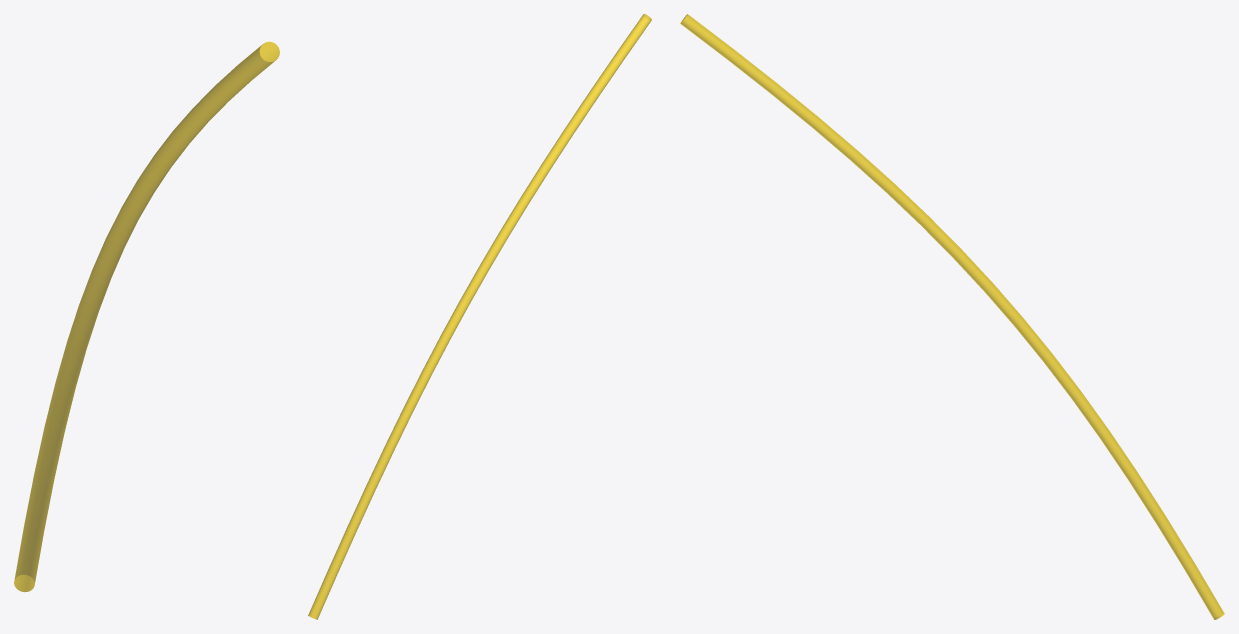
File: Event_419990632_track_12.fbx
3 renders of one model, left to right at view 1: azimuth 30°, elevation 25°; view 2: azimuth 150°, elevation 25°; view 3: azimuth 270°, elevation 25°, orthographic. The views are drawn at different scales.
Parts seen in each view (by area): view 1: Model; view 2: Model; view 3: Model.
Part boxes in pixels (bbox=[...]): Model: bbox=[14, 41, 279, 592]; Model: bbox=[308, 14, 651, 619]; Model: bbox=[680, 14, 1224, 619].
Size of the model in its own units: 0.5066 by 1.96 by 1.78.
